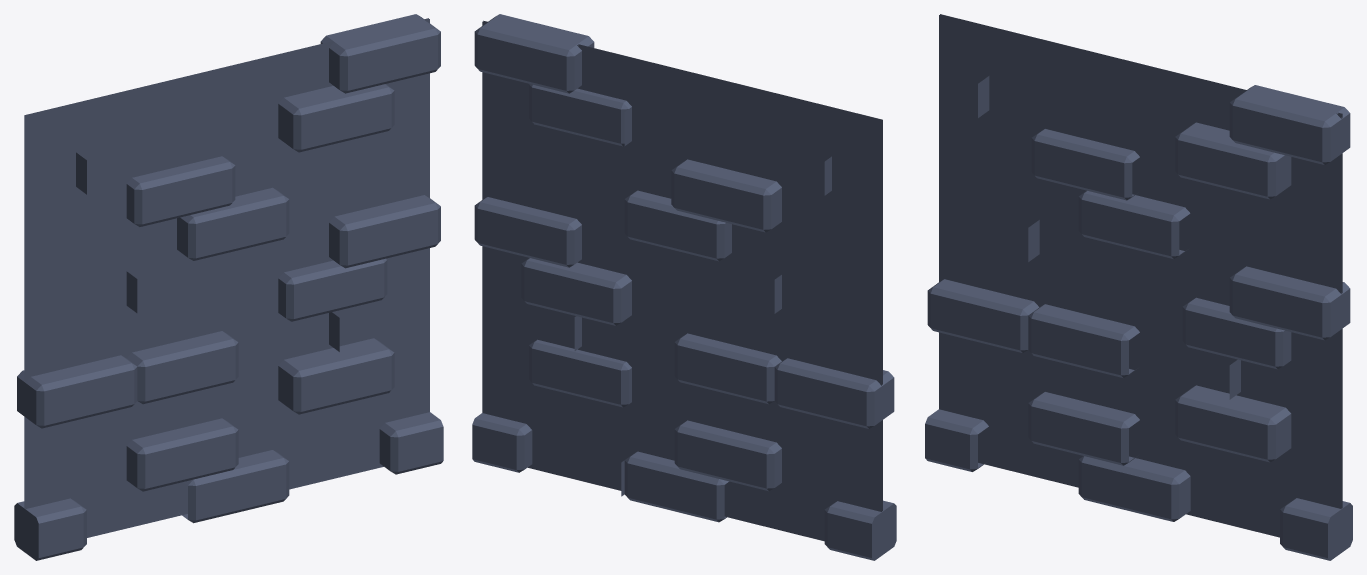
File: n2_brick_wall_lev2.053.glb
3 renders of one model, left to right at view 1: azimuth 30°, elevation 25°; view 2: azimuth 150°, elevation 25°; view 3: azimuth 330°, elevation 25°, orthographic.
Parts seen in each view (by area): view 1: n2_brick_wall_lev2.053; view 2: n2_brick_wall_lev2.053; view 3: n2_brick_wall_lev2.053.
Part boxes in pixels (<box>): n2_brick_wall_lev2.053: <box>14,14,443,560</box>; n2_brick_wall_lev2.053: <box>472,14,896,560</box>; n2_brick_wall_lev2.053: <box>925,14,1352,560</box>.
Bounding box in the file's own units: 12.62 × 13.06 × 1.79.
